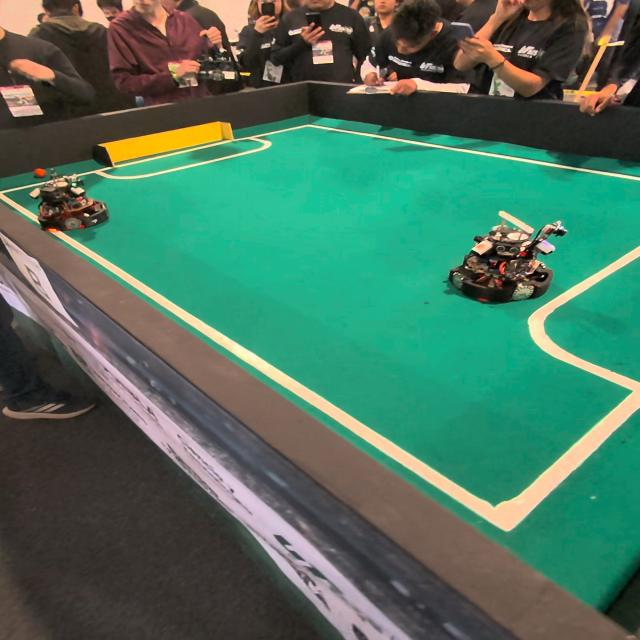Robot: (448, 206, 564, 316)
